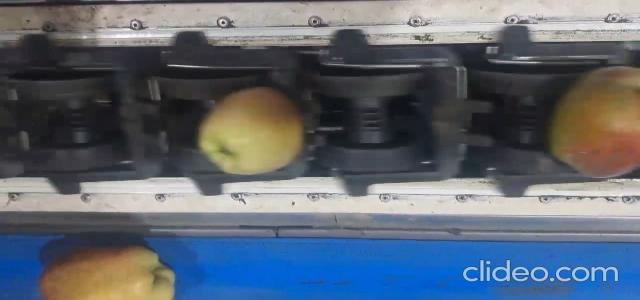apple: (550, 68, 640, 177), (199, 88, 304, 173)
